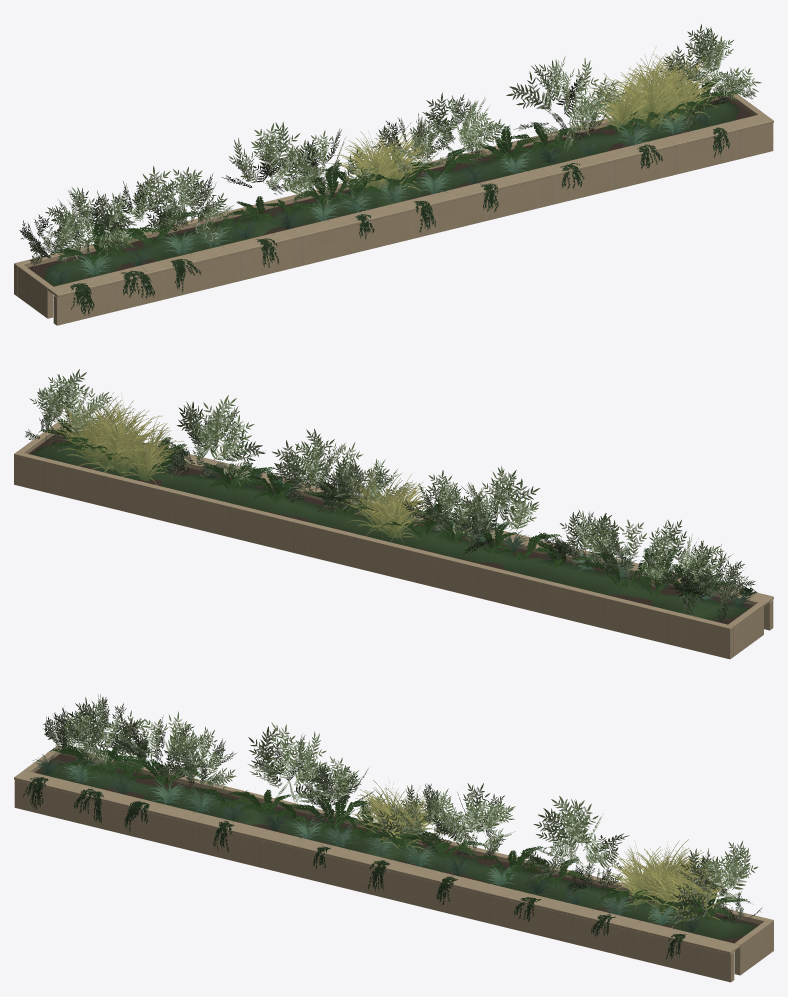
Rendered from courtyard_bed_west.gltf.
3 views of the same model, one above another, from view 1: azimuth 30°, elevation 25°; view 2: azimuth 150°, elevation 25°; view 3: azimuth 330°, elevation 25° (orthographic).
Parts seen in each view (by area): view 1: CourtyardBedWest_PlantingNoCollide, CourtyardBedWest_WallFront, CourtyardBedWest_GroundcoverNoCollide, CourtyardBedWest_Coping, CourtyardBedWest_TrailingNoCollide, CourtyardBedWest_Soil, CourtyardBedWest_WallBack, CourtyardBedWest_EndW; view 2: CourtyardBedWest_PlantingNoCollide, CourtyardBedWest_WallBack, CourtyardBedWest_GroundcoverNoCollide, CourtyardBedWest_Soil, CourtyardBedWest_Coping, CourtyardBedWest_EndW, CourtyardBedWest_WallFront; view 3: CourtyardBedWest_PlantingNoCollide, CourtyardBedWest_WallFront, CourtyardBedWest_GroundcoverNoCollide, CourtyardBedWest_Coping, CourtyardBedWest_TrailingNoCollide, CourtyardBedWest_WallBack, CourtyardBedWest_Soil, CourtyardBedWest_EndE.
Boxes of the visible parts, x1,y1,x2,y2 form: CourtyardBedWest_PlantingNoCollide: (19, 24, 761, 283); CourtyardBedWest_WallFront: (53, 123, 773, 325); CourtyardBedWest_GroundcoverNoCollide: (44, 99, 739, 286); CourtyardBedWest_Coping: (48, 113, 773, 297); CourtyardBedWest_TrailingNoCollide: (70, 127, 729, 315); CourtyardBedWest_Soil: (28, 97, 753, 286); CourtyardBedWest_WallBack: (14, 89, 732, 296); CourtyardBedWest_EndW: (17, 264, 53, 318); CourtyardBedWest_PlantingNoCollide: (25, 369, 755, 624); CourtyardBedWest_WallBack: (14, 451, 733, 659); CourtyardBedWest_GroundcoverNoCollide: (31, 442, 748, 620); CourtyardBedWest_Soil: (28, 435, 753, 624); CourtyardBedWest_Coping: (49, 422, 773, 605); CourtyardBedWest_EndW: (728, 602, 763, 656); CourtyardBedWest_WallFront: (53, 434, 773, 630); CourtyardBedWest_PlantingNoCollide: (33, 694, 762, 931); CourtyardBedWest_WallFront: (14, 780, 734, 982); CourtyardBedWest_GroundcoverNoCollide: (39, 763, 757, 939); CourtyardBedWest_Coping: (14, 770, 739, 954); CourtyardBedWest_TrailingNoCollide: (23, 777, 686, 959); CourtyardBedWest_WallBack: (54, 745, 773, 953); CourtyardBedWest_Soil: (35, 754, 759, 943); CourtyardBedWest_EndE: (734, 921, 770, 975).
Size of the model in its own units: 11.5 by 1.93 by 1.47.
Materials: 4 (2 with a texture image).
